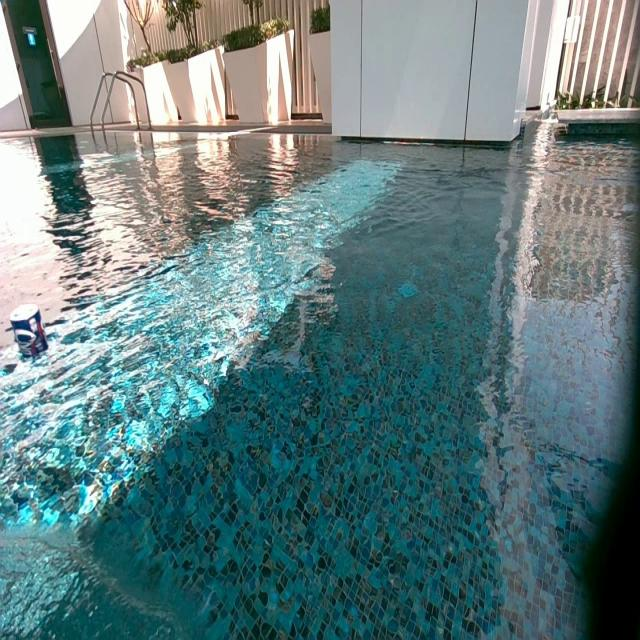Cans: (7, 300, 47, 342)
